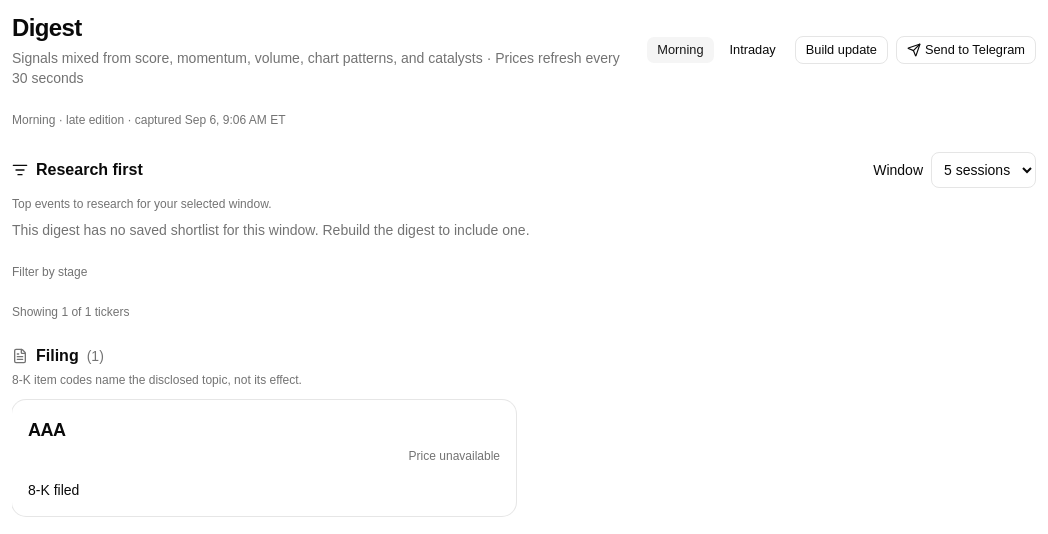
Test: a missing intraday update has its own empty state
Click the button "Intraday" at (753, 50), box [718,36,787,64]
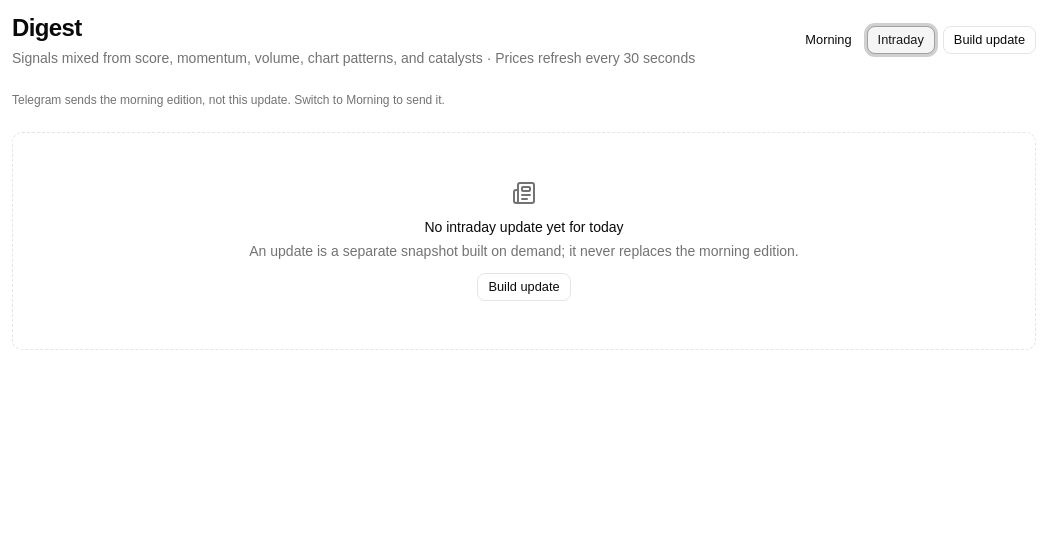
Now the text "No intraday update yet for today" is shown, box [424,219,624,235]
